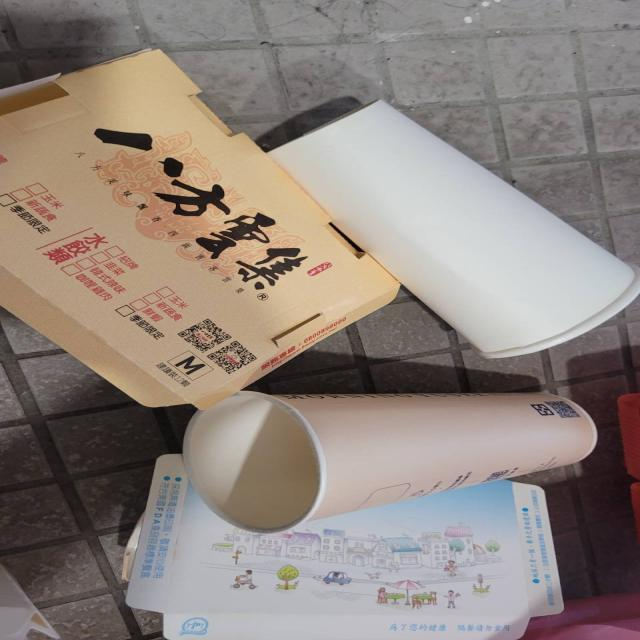Paper bowl: (0, 50, 383, 411), (250, 92, 640, 360), (77, 463, 583, 640), (178, 370, 640, 535)
